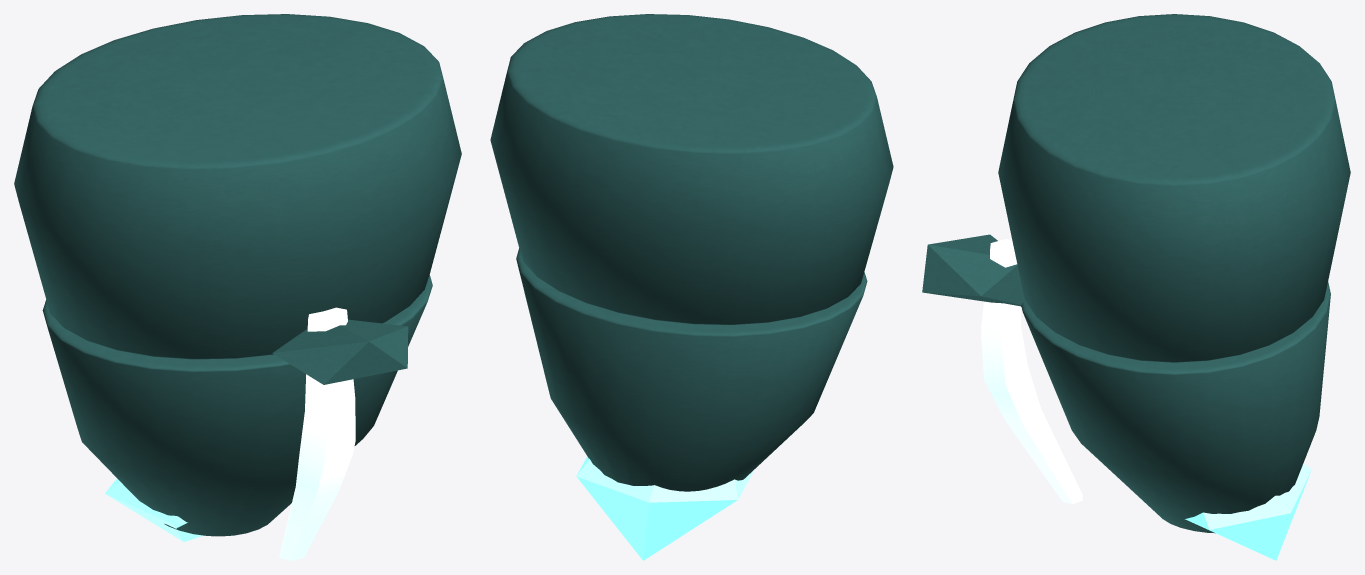
The model's file is soul_spirit_leg.glb.
3 views of the same model, side by side, from view 1: azimuth 30°, elevation 25°; view 2: azimuth 150°, elevation 25°; view 3: azimuth 270°, elevation 25° (orthographic). The views are drawn at different scales.
Visible parts, largest first — view 1: soul_spirit_leg spectral patinated armor, soul_spirit_leg spectral core glow, soul_spirit_leg bound soul jade; view 2: soul_spirit_leg spectral patinated armor, soul_spirit_leg bound soul jade; view 3: soul_spirit_leg spectral patinated armor, soul_spirit_leg spectral core glow, soul_spirit_leg bound soul jade.
Part boxes in pixels (bbox=[...]): soul_spirit_leg spectral patinated armor: bbox=[14, 14, 461, 536]; soul_spirit_leg spectral core glow: bbox=[279, 307, 355, 560]; soul_spirit_leg bound soul jade: bbox=[105, 478, 202, 541]; soul_spirit_leg spectral patinated armor: bbox=[490, 14, 893, 491]; soul_spirit_leg bound soul jade: bbox=[576, 456, 753, 560]; soul_spirit_leg spectral patinated armor: bbox=[922, 14, 1350, 533]; soul_spirit_leg spectral core glow: bbox=[981, 239, 1082, 504]; soul_spirit_leg bound soul jade: bbox=[1185, 463, 1311, 560].
Bounding box in the file's own units: 0.94 × 1.09 × 0.9117.
Materials: 3 (1 with a texture image).
